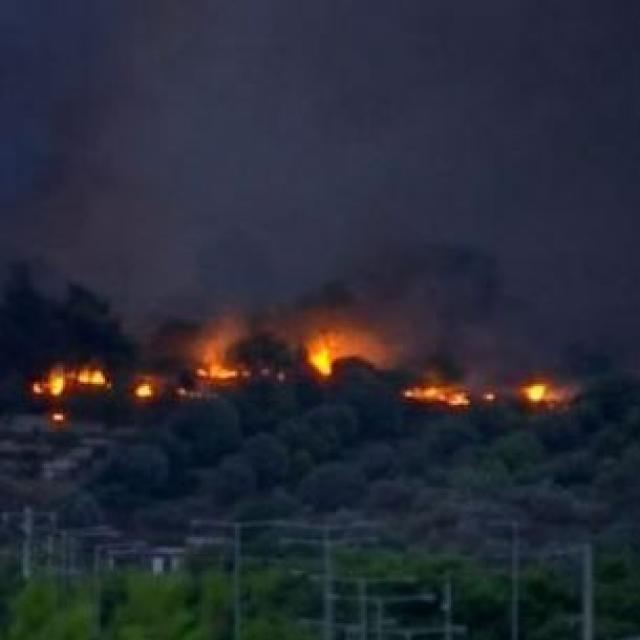Fire: (35, 354, 158, 397), (366, 375, 480, 416), (280, 327, 342, 376), (506, 379, 564, 410)
